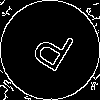P: (25, 25, 77, 81)
